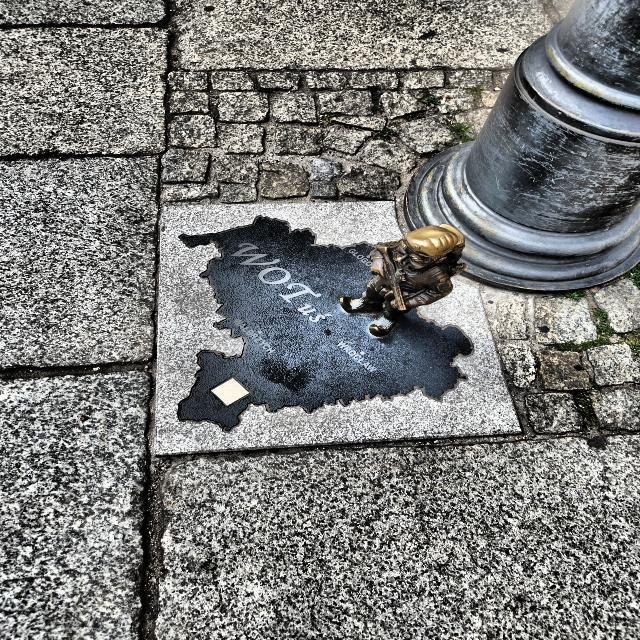WOTus: (340, 225, 465, 338)
